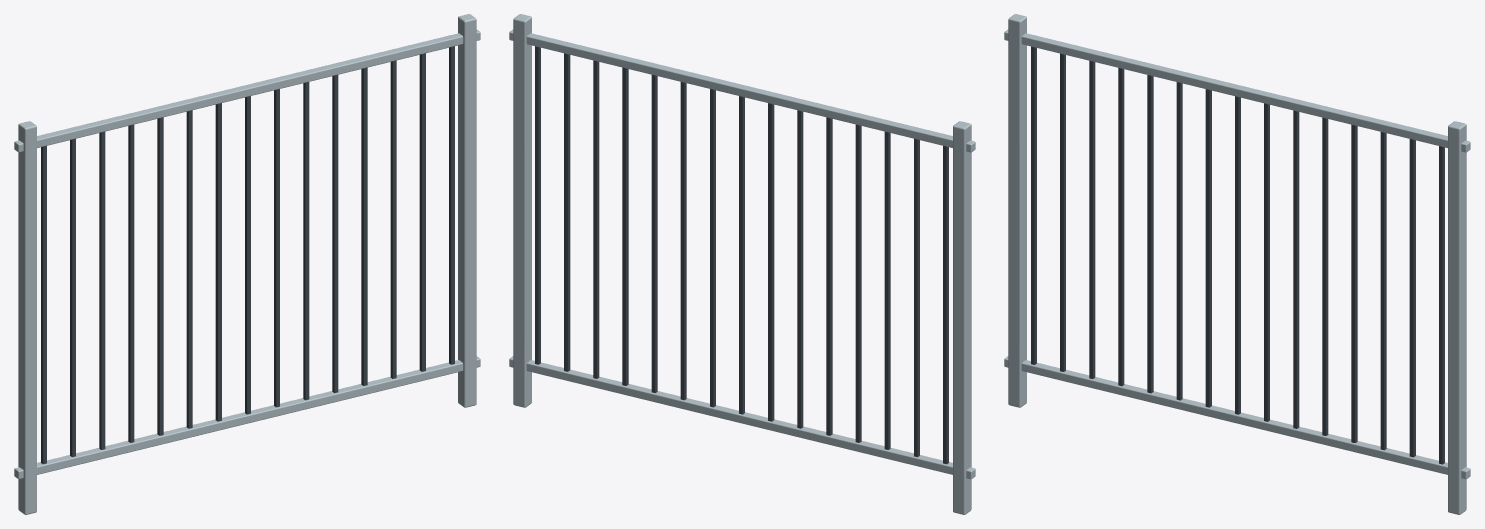
The model's file is data-centre-infiltration-kit-data-centre-infiltration--d789d68d__29275.glb.
3 views of the same model, side by side, from view 1: azimuth 30°, elevation 25°; view 2: azimuth 150°, elevation 25°; view 3: azimuth 330°, elevation 25° (orthographic).
Visible parts, largest first — view 1: data-centre-infiltration-kit-perimeter-barrier; view 2: data-centre-infiltration-kit-perimeter-barrier; view 3: data-centre-infiltration-kit-perimeter-barrier.
Part boxes in pixels (box(x1,y1,x2,y2)): data-centre-infiltration-kit-perimeter-barrier: box(14, 14, 480, 514); data-centre-infiltration-kit-perimeter-barrier: box(509, 14, 975, 514); data-centre-infiltration-kit-perimeter-barrier: box(1004, 14, 1470, 514).
Bounding box in the file's own units: 2 × 1.6 × 0.0549.
